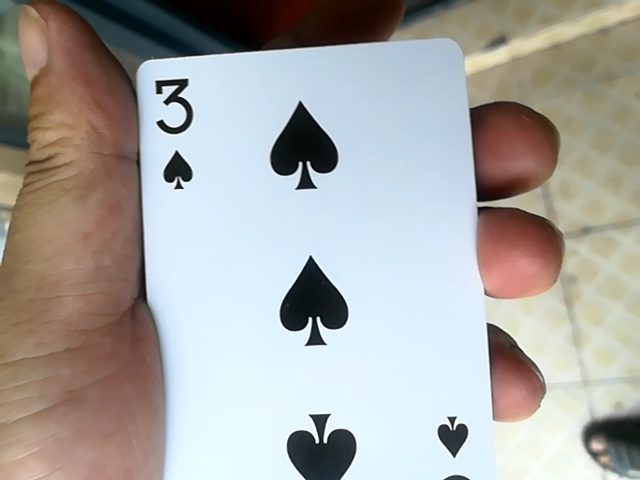ht 3: (129, 38, 487, 480)
